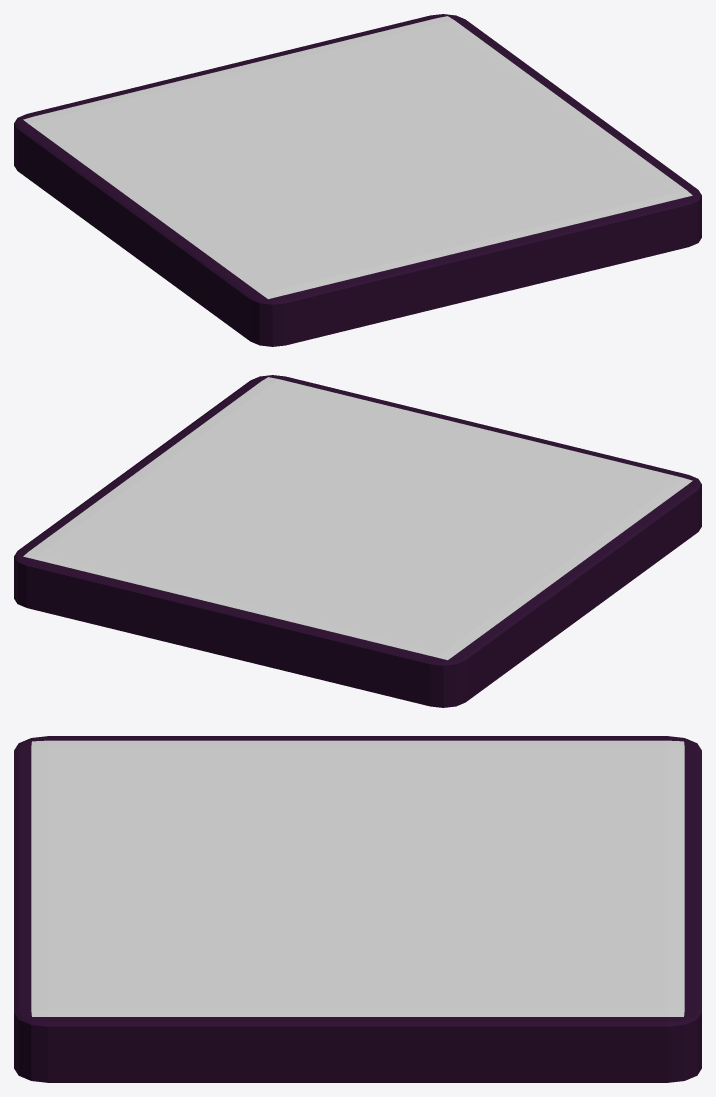
3 views of the same model, one above another, from view 1: azimuth 30°, elevation 25°; view 2: azimuth 150°, elevation 25°; view 3: azimuth 270°, elevation 25° (orthographic). The views are drawn at different scales.
Parts seen in each view (by area): view 1: grid; view 2: grid; view 3: grid.
Boxes of the visible parts, x1=… form: grid: x1=14, y1=14, x2=701, y2=346; grid: x1=14, y1=375, x2=701, y2=707; grid: x1=14, y1=736, x2=701, y2=1082.
Bounding box in the file's own units: 100 × 10 × 100.
